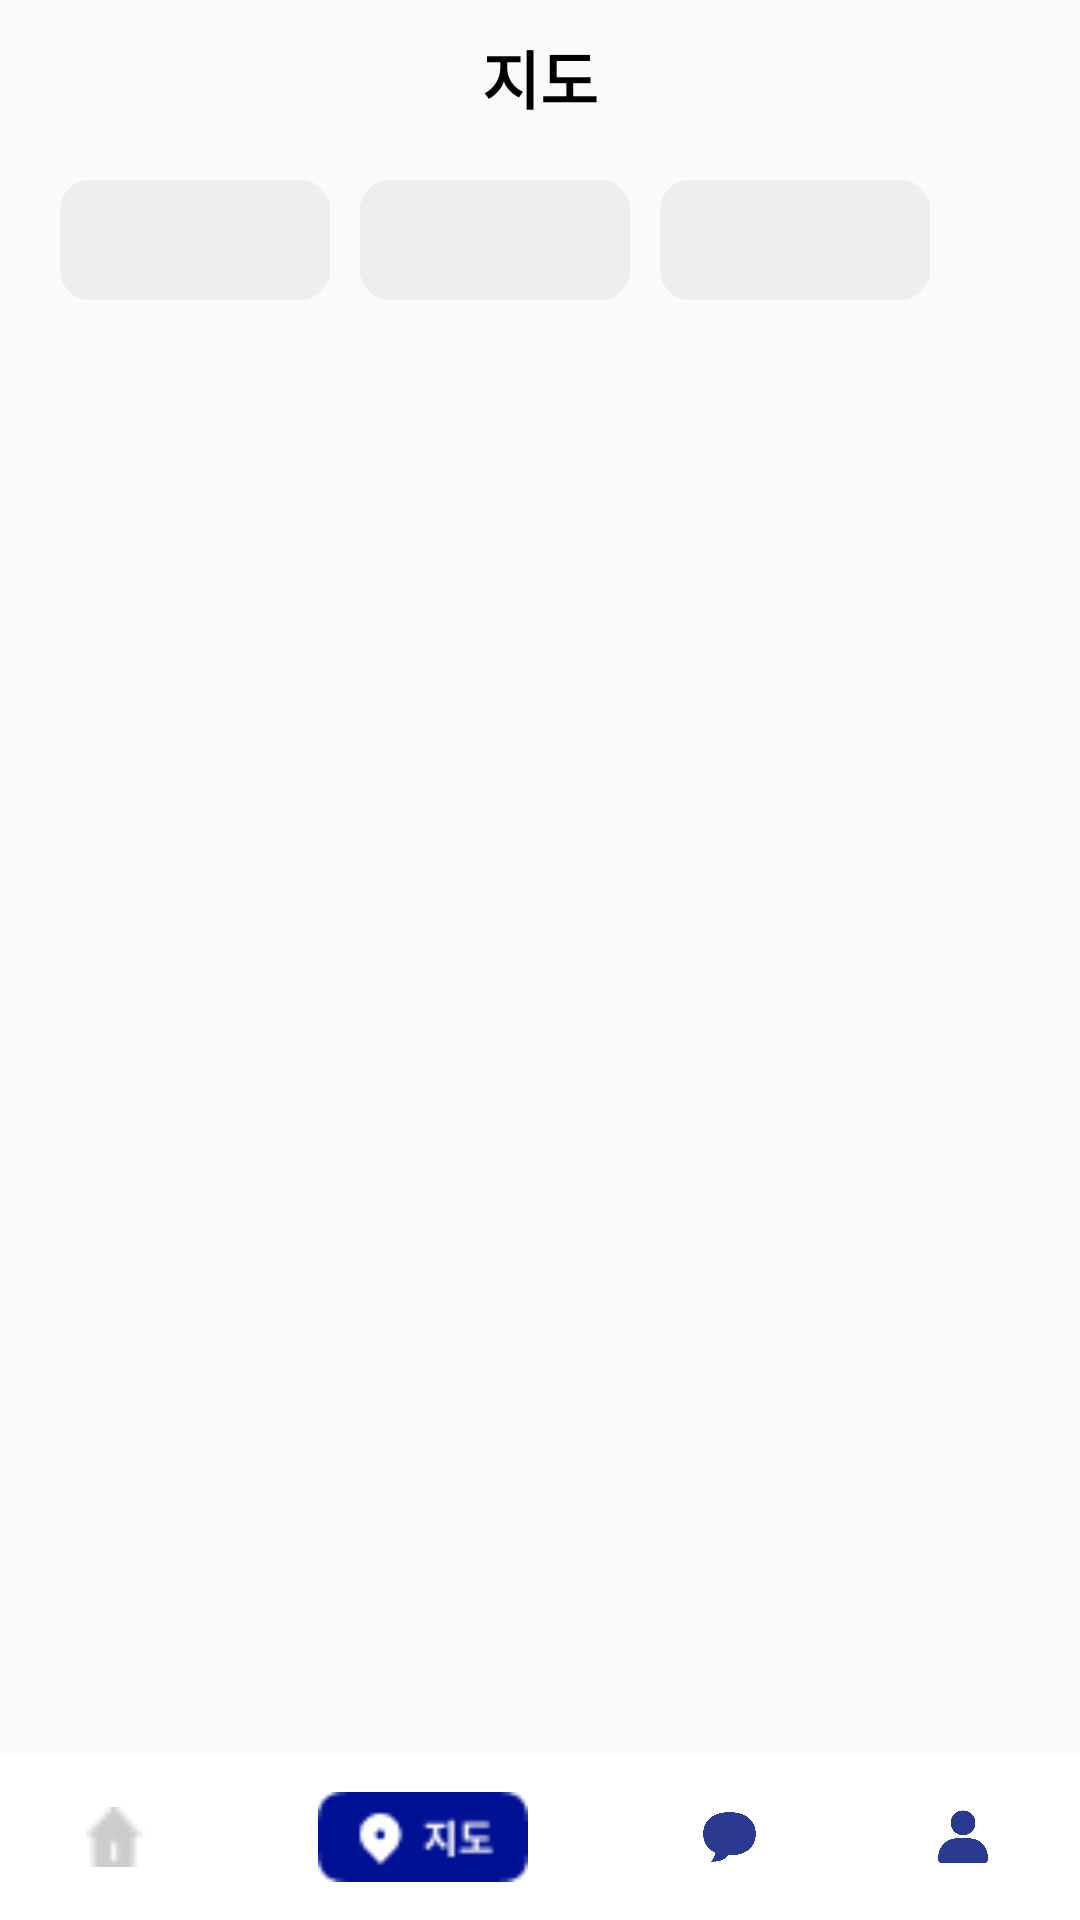

Where to tap for icons on this 1080w x 1920h app screen, as (x=x, y=y):
main: (x=114, y=1837)
message: (x=729, y=1837)
profile: (x=963, y=1836)
